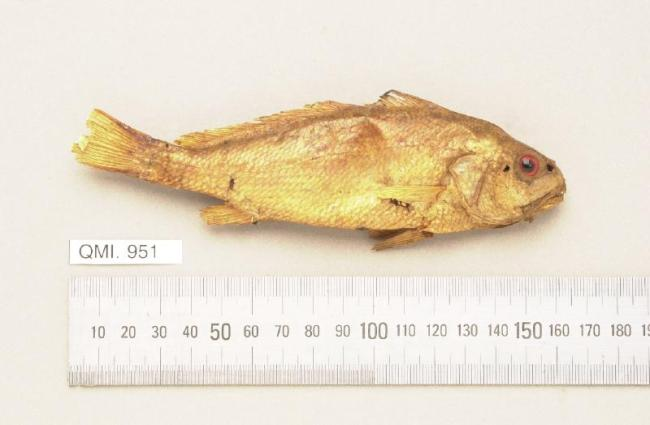fish: (72, 88, 569, 253)
